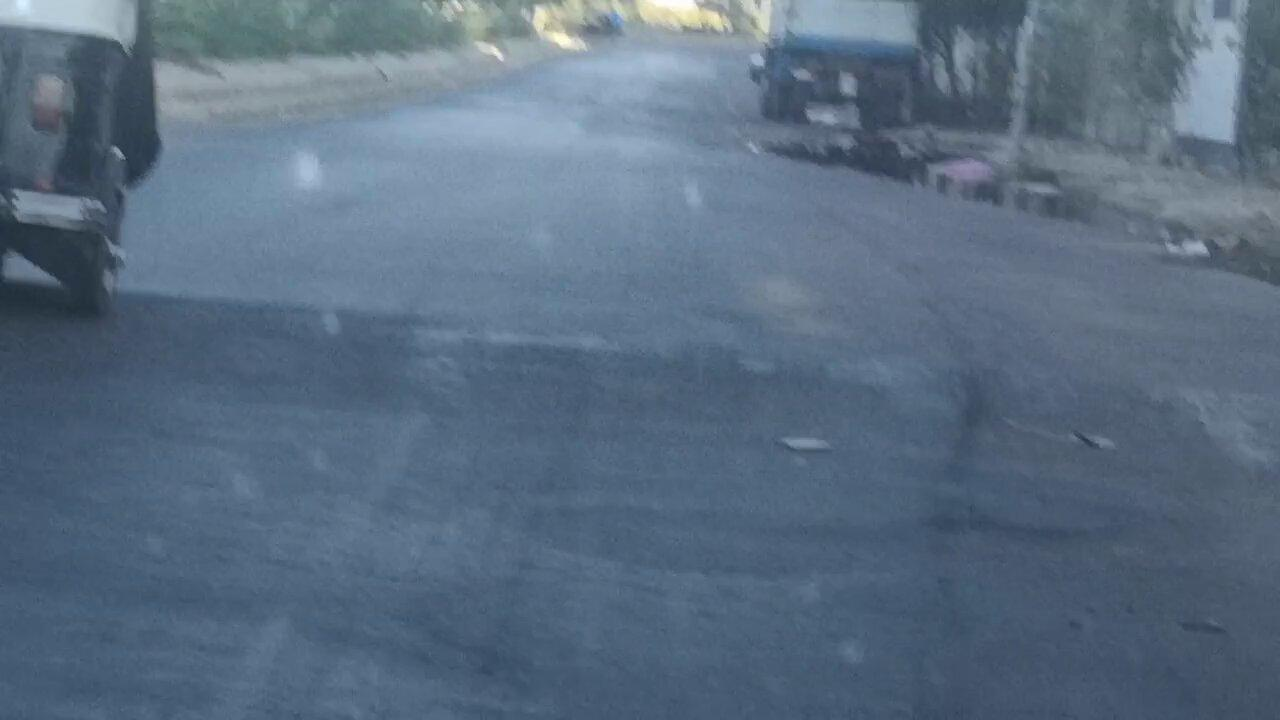Bump: (120, 293, 1280, 485)
